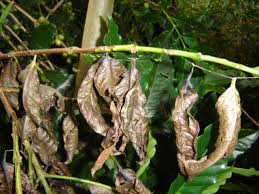mal de hilachas: (81, 52, 161, 173), (4, 52, 76, 184), (175, 58, 243, 180)
